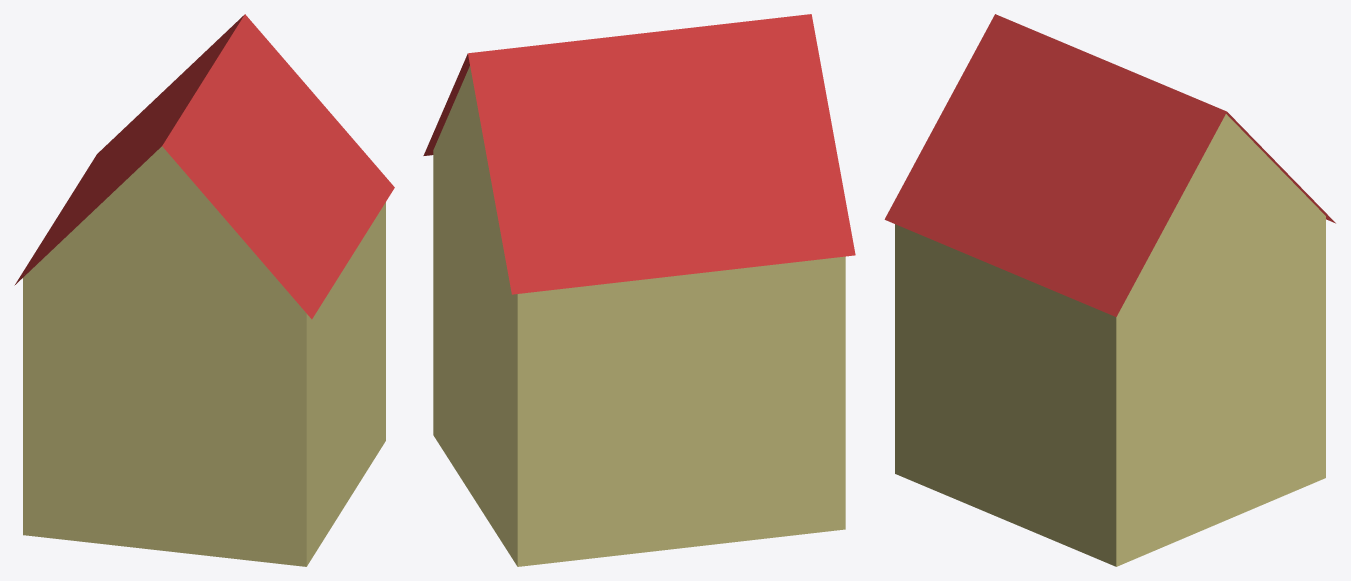
3 views of the same model, side by side, from view 1: azimuth 30°, elevation 25°; view 2: azimuth 150°, elevation 25°; view 3: azimuth 270°, elevation 25° (orthographic). The views are drawn at different scales.
Size of the model in its own units: 15.14 by 15.14 by 15.26.
